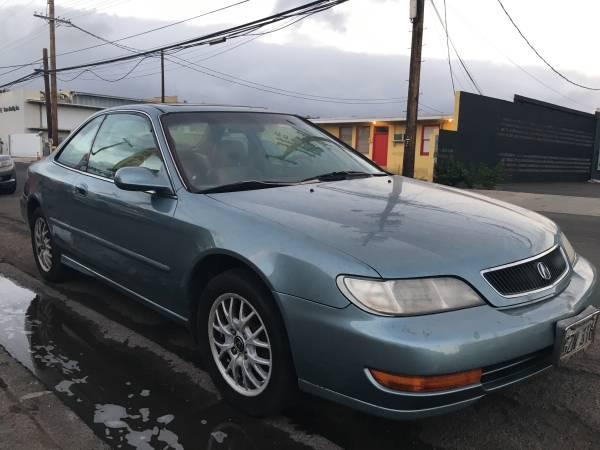acura: (16, 96, 600, 417)
